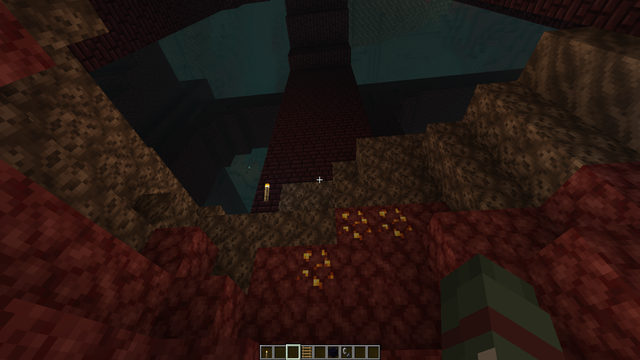nethergold: (294, 205, 418, 296)
